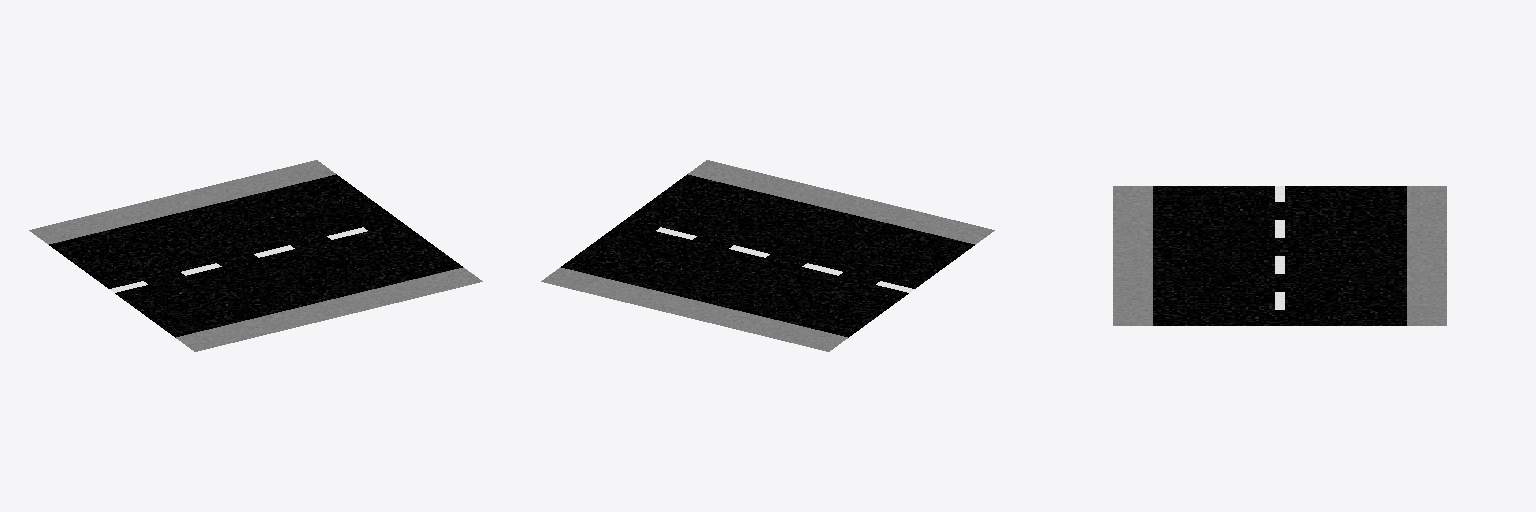
The picture shows the model from 3 angles: view 1: azimuth 30°, elevation 25°; view 2: azimuth 150°, elevation 25°; view 3: azimuth 270°, elevation 25°; orthographic projection.
Parts seen in each view (by area): view 1: Plane.008_Plane.020; view 2: Plane.008_Plane.020; view 3: Plane.008_Plane.020.
Part boxes in pixels (x1,y1,x2,y2): Plane.008_Plane.020: (29, 160, 482, 351); Plane.008_Plane.020: (541, 160, 994, 351); Plane.008_Plane.020: (1113, 186, 1446, 325).
Bounding box in the file's own units: 10 × 0 × 10.
1 materials, 1 textured.